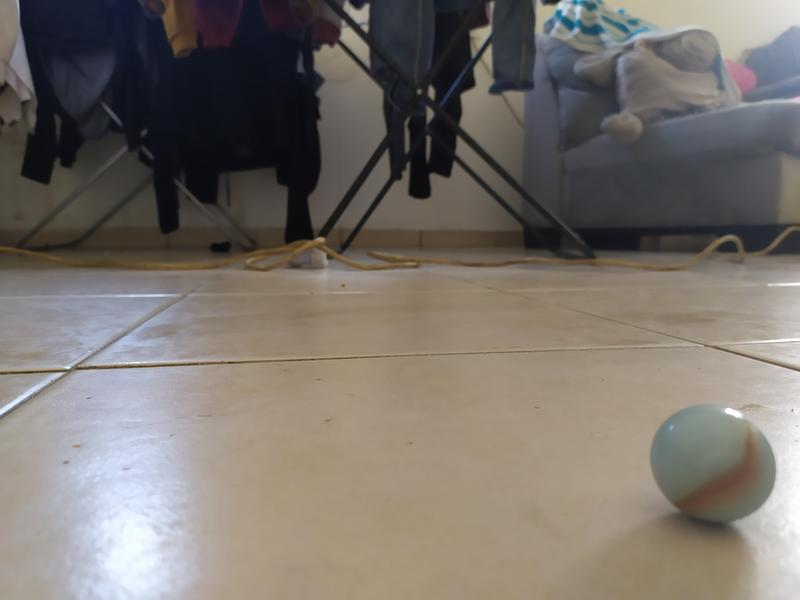Warning: (647, 400, 780, 528)
